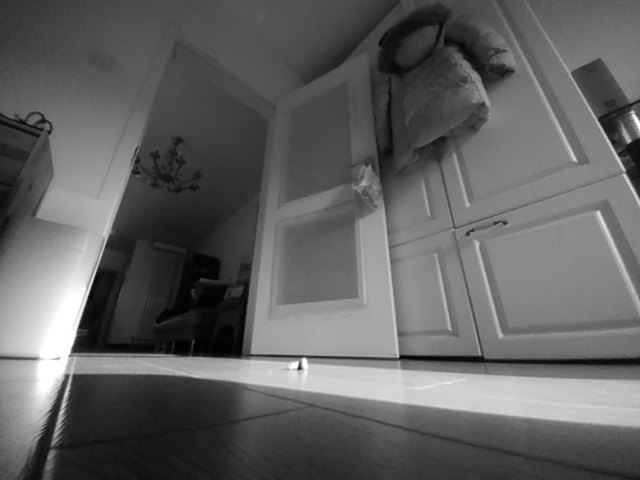pet feces: (285, 356, 310, 372)
